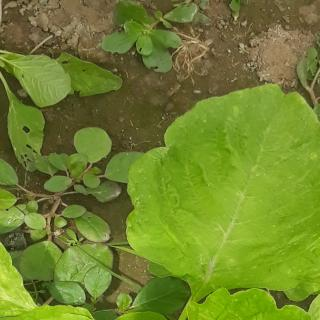karat_putih: (0, 206, 33, 320)
virus_keriting: (123, 167, 309, 286)
